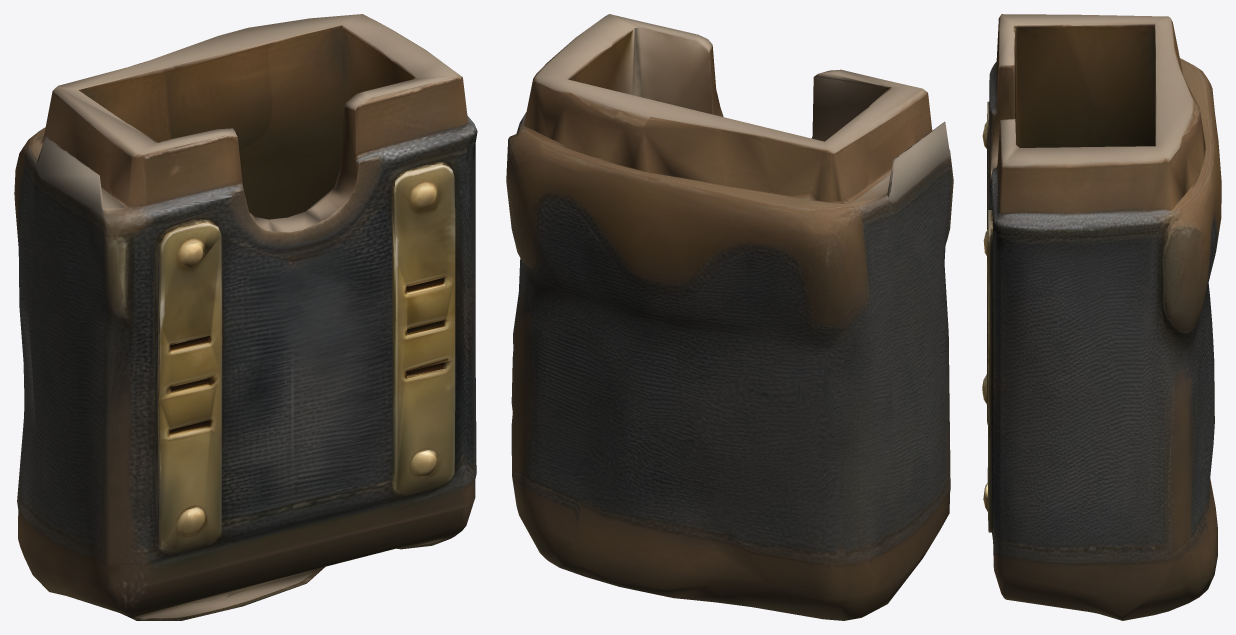
File: WoodCase-game-v1.glb
3 views of the same model, side by side, from view 1: azimuth 30°, elevation 25°; view 2: azimuth 150°, elevation 25°; view 3: azimuth 270°, elevation 25° (orthographic). The views are drawn at different scales.
Visible parts, largest first — view 1: WoodCase; view 2: WoodCase; view 3: WoodCase.
Boxes of the visible parts, x1,y1,x2,y2 form: WoodCase: [14, 14, 477, 620]; WoodCase: [506, 14, 953, 620]; WoodCase: [982, 14, 1221, 620].
Bounding box in the file's own units: 0.078 × 0.092 × 0.044.
1 material, 1 textured.
